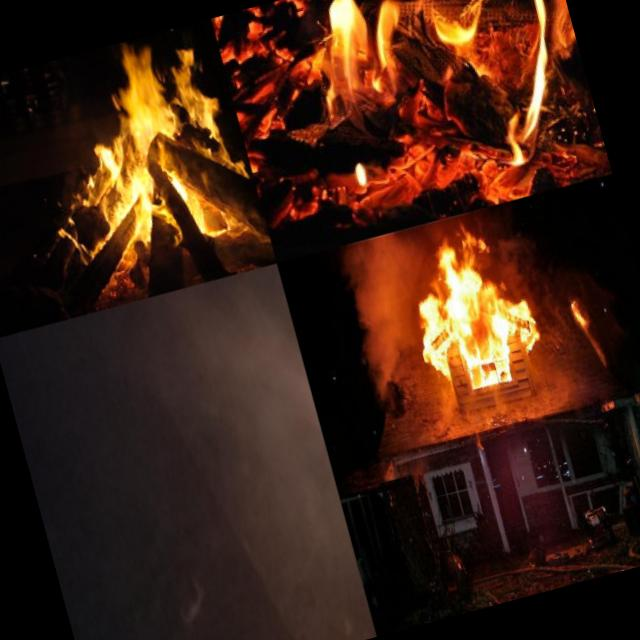fire: (292, 0, 603, 210), (52, 31, 264, 267), (396, 224, 548, 400)
smoke: (184, 263, 366, 620), (113, 287, 229, 476)
